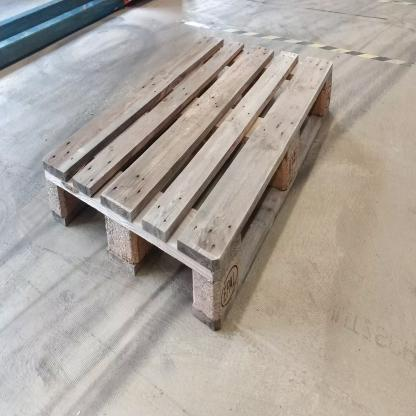BoxFace: (42, 31, 337, 339)
